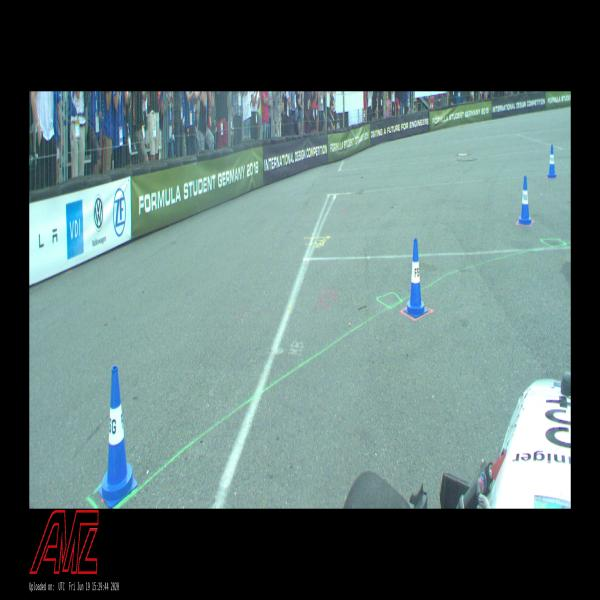blue_cone: (98, 365, 138, 507), (404, 238, 428, 318), (518, 175, 532, 225), (548, 144, 556, 178)
